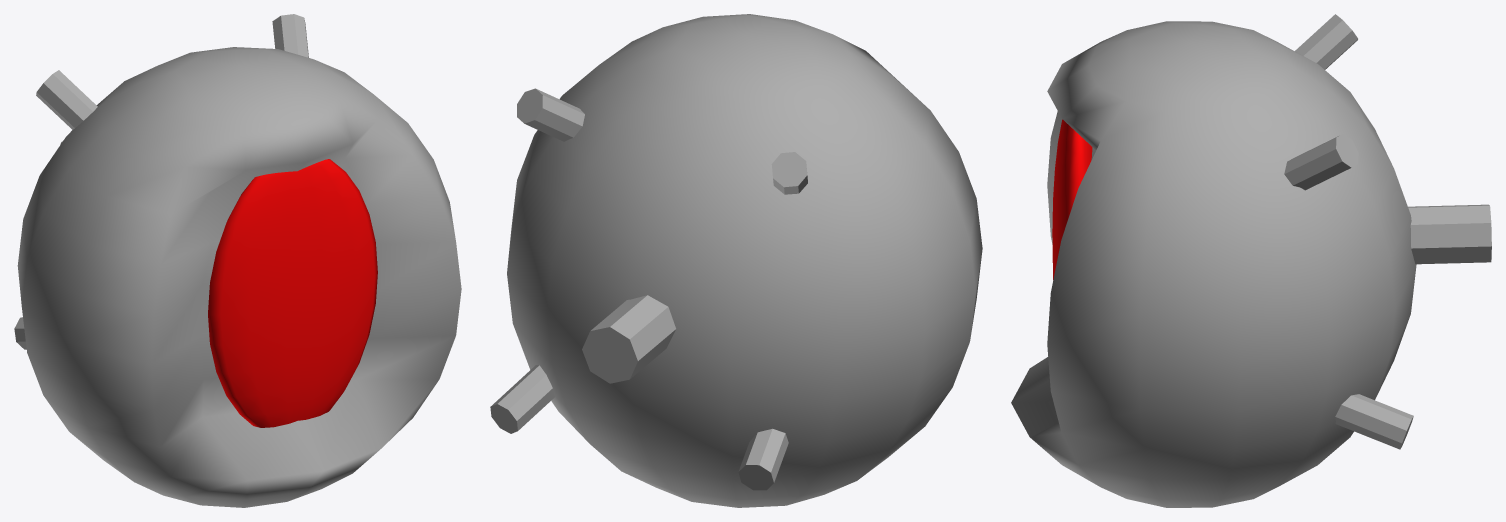
The model's file is Eye.fbx.
The picture shows the model from 3 angles, left to right: view 1: azimuth 30°, elevation 25°; view 2: azimuth 150°, elevation 25°; view 3: azimuth 270°, elevation 25°; orthographic projection. The views are drawn at different scales.
Parts seen in each view (by area): view 1: pasted__pasted__E_Y_E, pasted__E_Y_E, pCylinder1, pCylinder2; view 2: pasted__pasted__E_Y_E, pCylinder5, pCylinder3, pCylinder2, pCylinder4, pCylinder1; view 3: pasted__pasted__E_Y_E, pCylinder5, pasted__E_Y_E, pCylinder3, pCylinder2, pCylinder1.
Part boxes in pixels (bbox=[...]): pasted__pasted__E_Y_E: bbox=[17, 47, 461, 507]; pasted__E_Y_E: bbox=[208, 159, 377, 427]; pCylinder1: bbox=[36, 70, 97, 129]; pCylinder2: bbox=[272, 14, 308, 57]; pasted__pasted__E_Y_E: bbox=[507, 14, 982, 507]; pCylinder5: bbox=[582, 295, 675, 383]; pCylinder3: bbox=[490, 365, 555, 433]; pCylinder2: bbox=[517, 88, 584, 141]; pCylinder4: bbox=[738, 428, 788, 490]; pCylinder1: bbox=[771, 152, 807, 194]; pasted__pasted__E_Y_E: bbox=[1011, 21, 1416, 507]; pCylinder5: bbox=[1408, 204, 1491, 264]; pasted__E_Y_E: bbox=[1052, 119, 1092, 279]; pCylinder3: bbox=[1335, 394, 1413, 449]; pCylinder2: bbox=[1284, 134, 1358, 190]; pCylinder1: bbox=[1295, 14, 1357, 69].
Size of the model in its own units: 31.42 by 32.8 by 32.21.
